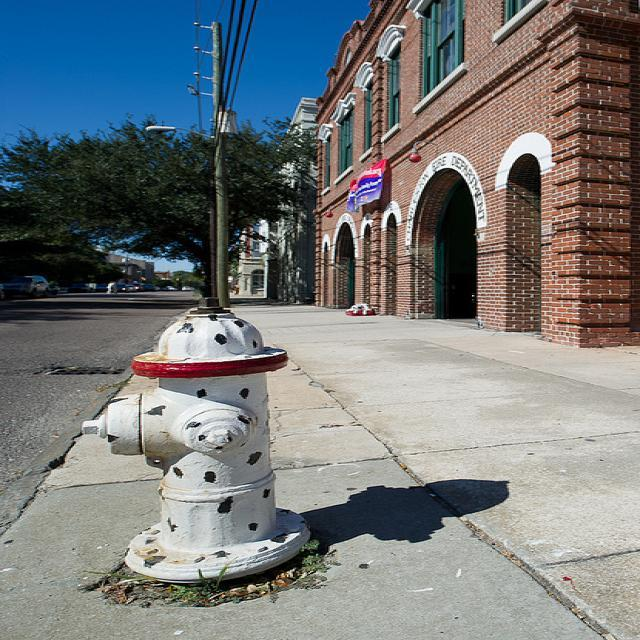fire_hydrant: (79, 298, 302, 585)
